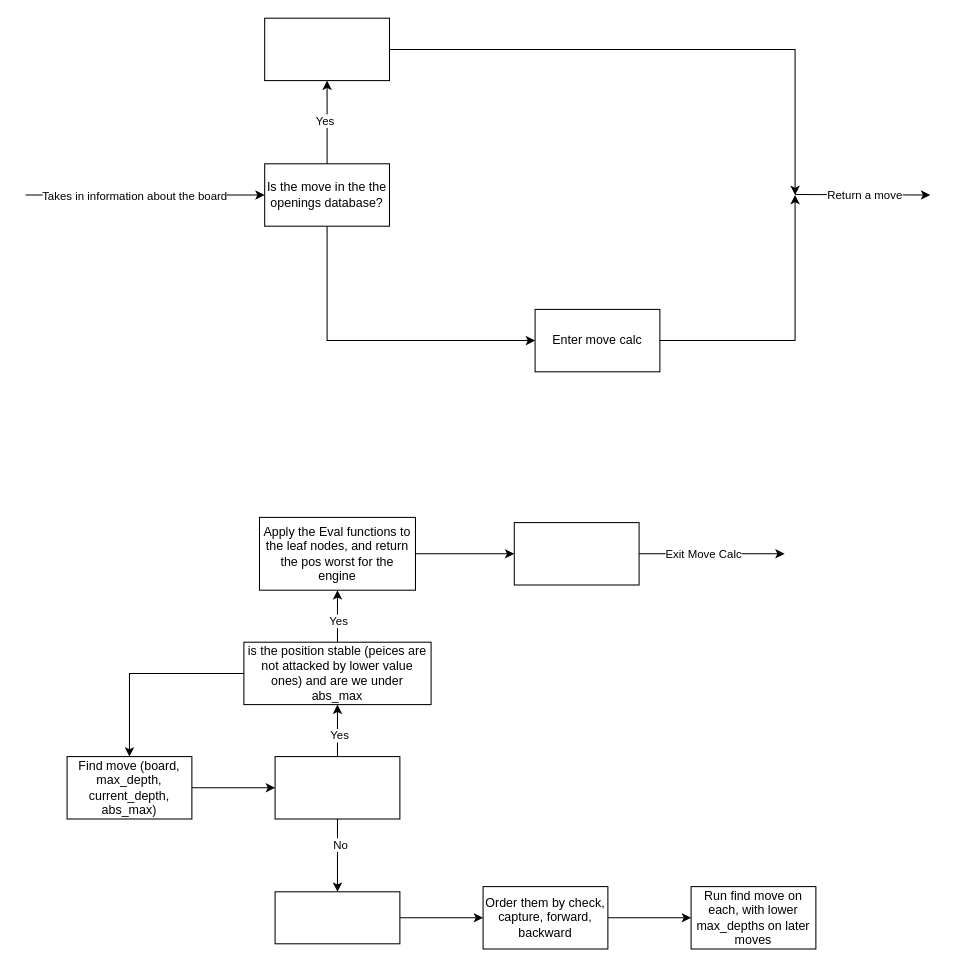
This 957x967 diagram has some shape labels left out. The box of each missing label's shape, as (x1, y1, x2, y2) in pixels:
Create a list of legal moves: (274, 891, 400, 944)
Get a random move in the database: (264, 17, 389, 81)
Is max_depth = current_depth or abs_max: (274, 756, 400, 819)
Return the move that's best for the engine from those options: (513, 522, 639, 585)
